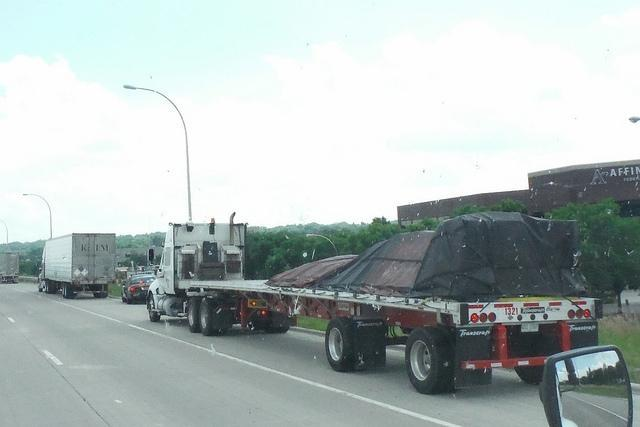car: (540, 346, 636, 422), (120, 272, 158, 305)
truck: (144, 208, 604, 396), (36, 234, 116, 300), (0, 252, 18, 283)
